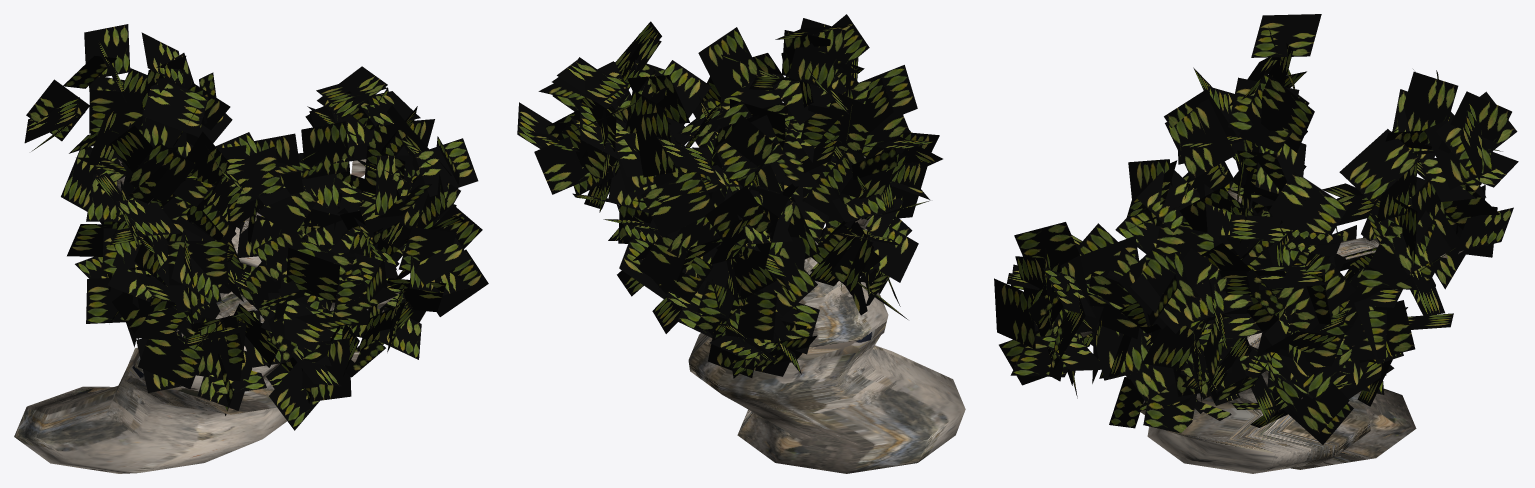
Rendered from tree-tall-06-lod0.glb.
3 views of the same model, side by side, from view 1: azimuth 30°, elevation 25°; view 2: azimuth 150°, elevation 25°; view 3: azimuth 270°, elevation 25° (orthographic). The views are drawn at different scales.
Visible parts, largest first — view 1: tree-tall-06_MATERIAL_BATCH; view 2: tree-tall-06_MATERIAL_BATCH; view 3: tree-tall-06_MATERIAL_BATCH.
Part boxes in pixels (left/top/right/bottom): tree-tall-06_MATERIAL_BATCH: left=14, top=24, right=488, bottom=473; tree-tall-06_MATERIAL_BATCH: left=517, top=14, right=965, bottom=473; tree-tall-06_MATERIAL_BATCH: left=994, top=14, right=1518, bottom=473.
Size of the model in its own units: 14.32 by 13 by 14.65.
3 materials, 3 textured.
